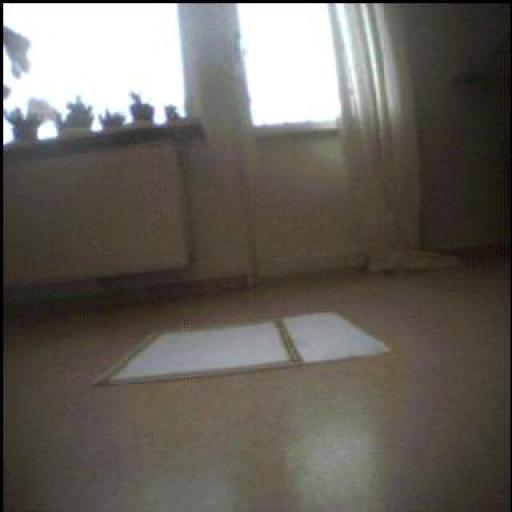Pad: (99, 315, 390, 385)
